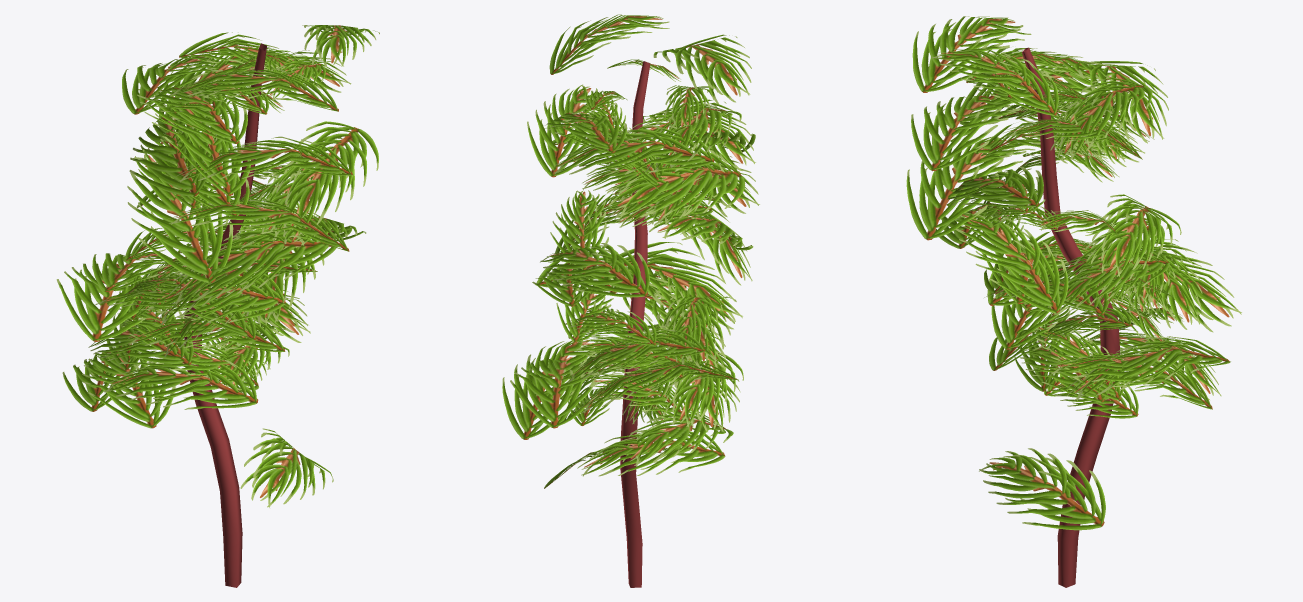
File: Day.fbx
3 renders of one model, left to right at view 1: azimuth 30°, elevation 25°; view 2: azimuth 150°, elevation 25°; view 3: azimuth 270°, elevation 25°, orthographic. The views are drawn at different scales.
Visible parts, largest first — view 1: Currant2, Currant2|Branch.002|Dupli|46, Currant2|Branch.002|Dupli|10, Currant2|Branch.002|Dupli|65, Currant2|Branch.002|Dupli|35, Currant2|Branch.002|Dupli|31, Currant2|Branch.002|Dupli|44, Currant2|Branch.002|Dupli|55, Currant2|Branch.002|Dupli|64, Currant2|Branch.002|Dupli|68, Currant2|Branch.002|Dupli|17, Currant2|Branch.002|Dupli|2 (+28 smaller); view 2: Currant2, Currant2|Branch.002|Dupli|68, Currant2|Branch.002|Dupli|67, Currant2|Branch.002|Dupli|9, Currant2|Branch.002|Dupli|58, Currant2|Branch.002|Dupli|23, Currant2|Branch.002|Dupli|4, Currant2|Branch.002|Dupli|2, Currant2|Branch.002|Dupli|14, Currant2|Branch.002|Dupli|5, Currant2|Branch.002|Dupli|, Currant2|Branch.002|Dupli|40 (+34 smaller); view 3: Currant2, Currant2|Branch.002|Dupli|17, Currant2|Branch.002|Dupli|43, Currant2|Branch.002|Dupli|44, Currant2|Branch.002|Dupli|2, Currant2|Branch.002|Dupli|31, Currant2|Branch.002|Dupli|, Currant2|Branch.002|Dupli|23, Currant2|Branch.002|Dupli|9, Currant2|Branch.002|Dupli|13, Currant2|Branch.002|Dupli|5, Currant2|Branch.002|Dupli|67 (+29 smaller).
Part boxes in pixels (x1=…): Currant2: x1=184, y1=43, x2=266, y2=587; Currant2|Branch.002|Dupli|46: x1=127, y1=154, x2=233, y2=282; Currant2|Branch.002|Dupli|10: x1=169, y1=222, x2=336, y2=304; Currant2|Branch.002|Dupli|65: x1=273, y1=121, x2=378, y2=235; Currant2|Branch.002|Dupli|35: x1=103, y1=360, x2=258, y2=409; Currant2|Branch.002|Dupli|31: x1=176, y1=136, x2=352, y2=182; Currant2|Branch.002|Dupli|44: x1=167, y1=199, x2=349, y2=251; Currant2|Branch.002|Dupli|55: x1=56, y1=263, x2=145, y2=341; Currant2|Branch.002|Dupli|64: x1=137, y1=89, x2=250, y2=195; Currant2|Branch.002|Dupli|68: x1=129, y1=114, x2=217, y2=196; Currant2|Branch.002|Dupli|17: x1=240, y1=428, x2=333, y2=507; Currant2|Branch.002|Dupli|2: x1=169, y1=68, x2=338, y2=111; Currant2: x1=620, y1=61, x2=650, y2=587; Currant2|Branch.002|Dupli|68: x1=606, y1=144, x2=745, y2=217; Currant2|Branch.002|Dupli|67: x1=553, y1=125, x2=714, y2=175; Currant2|Branch.002|Dupli|9: x1=540, y1=242, x2=649, y2=297; Currant2|Branch.002|Dupli|58: x1=604, y1=242, x2=742, y2=334; Currant2|Branch.002|Dupli|23: x1=510, y1=358, x2=597, y2=428; Currant2|Branch.002|Dupli|4: x1=577, y1=424, x2=725, y2=476; Currant2|Branch.002|Dupli|2: x1=653, y1=34, x2=751, y2=104; Currant2|Branch.002|Dupli|14: x1=527, y1=84, x2=609, y2=177; Currant2|Branch.002|Dupli|5: x1=502, y1=338, x2=602, y2=439; Currant2|Branch.002|Dupli|: x1=549, y1=14, x2=669, y2=74; Currant2|Branch.002|Dupli|40: x1=567, y1=329, x2=704, y2=383; Currant2: x1=1022, y1=47, x2=1120, y2=587; Currant2|Branch.002|Dupli|17: x1=979, y1=448, x2=1105, y2=530; Currant2|Branch.002|Dupli|43: x1=955, y1=211, x2=1068, y2=313; Currant2|Branch.002|Dupli|44: x1=906, y1=136, x2=1026, y2=240; Currant2|Branch.002|Dupli|2: x1=912, y1=16, x2=1031, y2=92; Currant2|Branch.002|Dupli|31: x1=911, y1=95, x2=1018, y2=171; Currant2|Branch.002|Dupli|: x1=932, y1=48, x2=1058, y2=115; Currant2|Branch.002|Dupli|23: x1=1066, y1=336, x2=1230, y2=400; Currant2|Branch.002|Dupli|9: x1=1091, y1=194, x2=1181, y2=276; Currant2|Branch.002|Dupli|13: x1=1050, y1=77, x2=1152, y2=159; Currant2|Branch.002|Dupli|5: x1=1048, y1=352, x2=1212, y2=409; Currant2|Branch.002|Dupli|67: x1=1064, y1=61, x2=1168, y2=143.
Size of the model in its own units: 599 by 1000 by 711.
